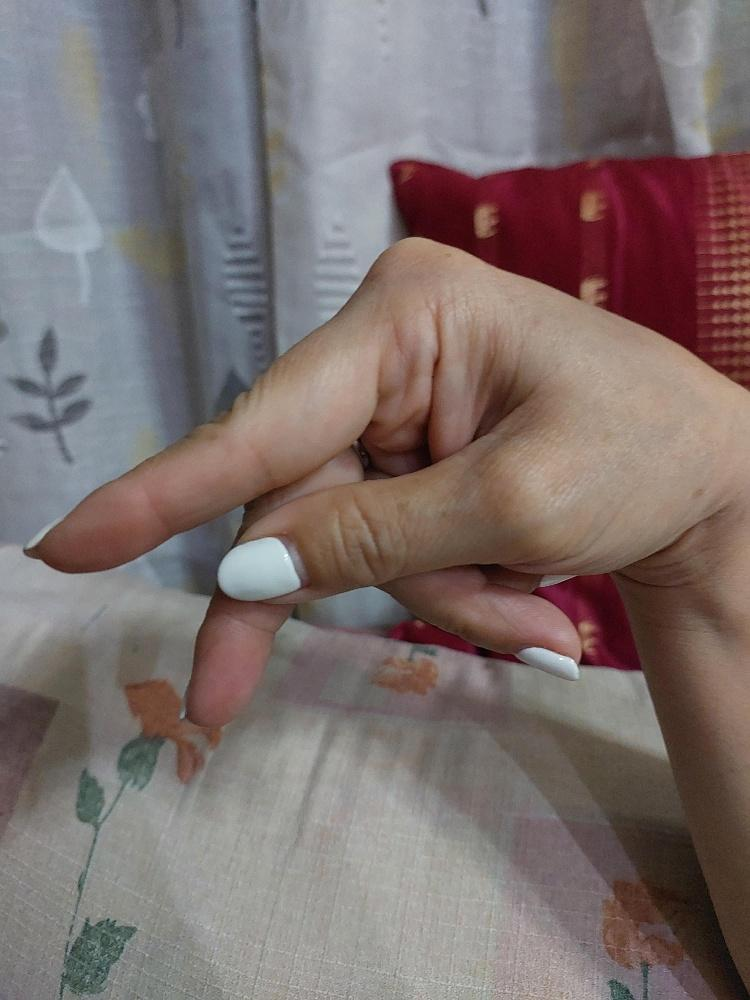p: (16, 230, 724, 733)
